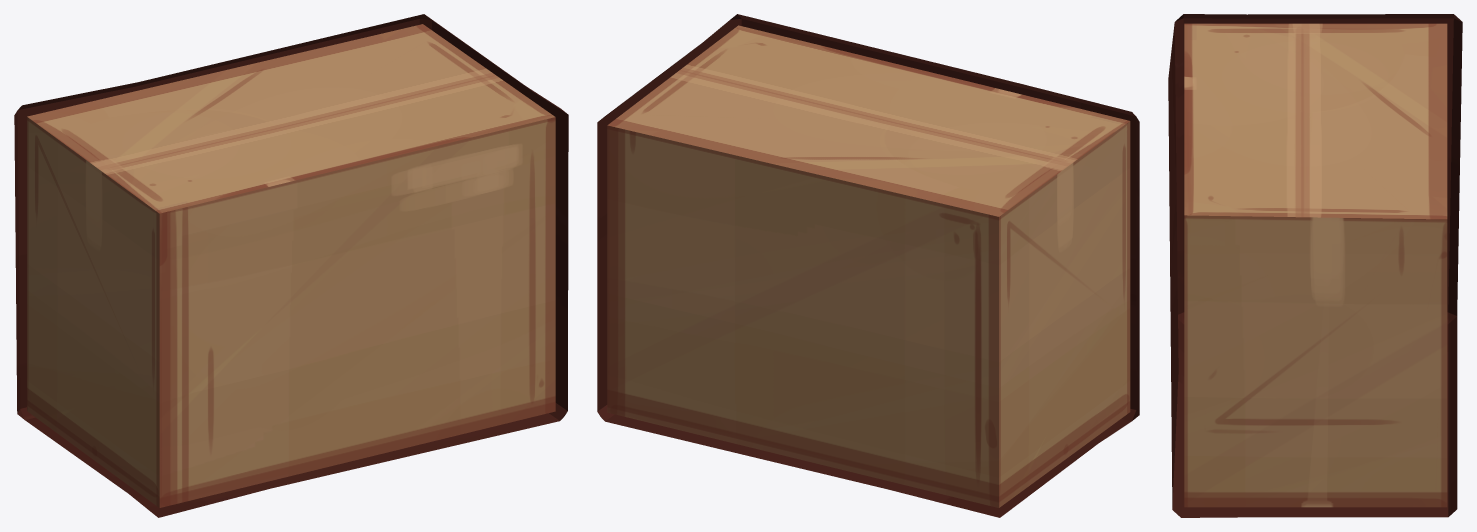
The picture shows the model from 3 angles, left to right: view 1: azimuth 30°, elevation 25°; view 2: azimuth 150°, elevation 25°; view 3: azimuth 270°, elevation 25°; orthographic projection.
Parts seen in each view (by area): view 1: Box_05; view 2: Box_05; view 3: Box_05.
Part boxes in pixels (<box>): Box_05: <box>14,14,568,517</box>; Box_05: <box>597,14,1139,517</box>; Box_05: <box>1168,14,1462,517</box>.
Bounding box in the file's own units: 1.63 × 1.17 × 1.01.
